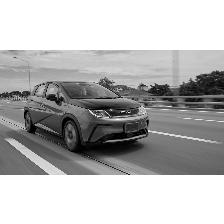EV: (26, 82, 151, 153)
